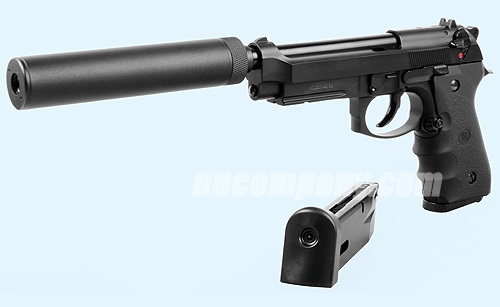gun: (3, 15, 495, 218)
